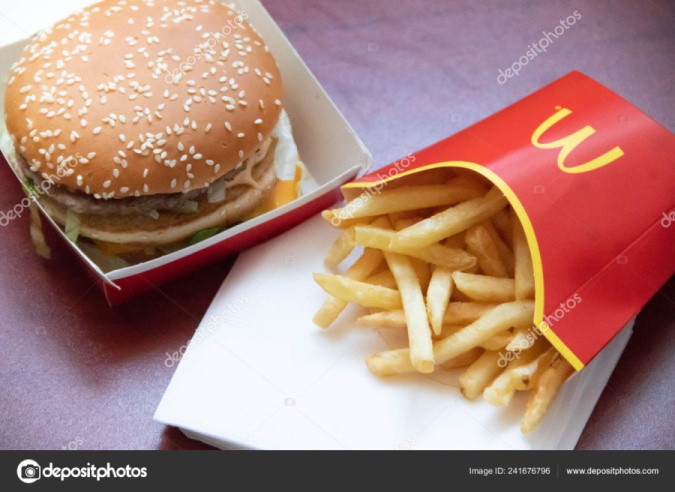mcdonalds: (530, 103, 626, 180)
